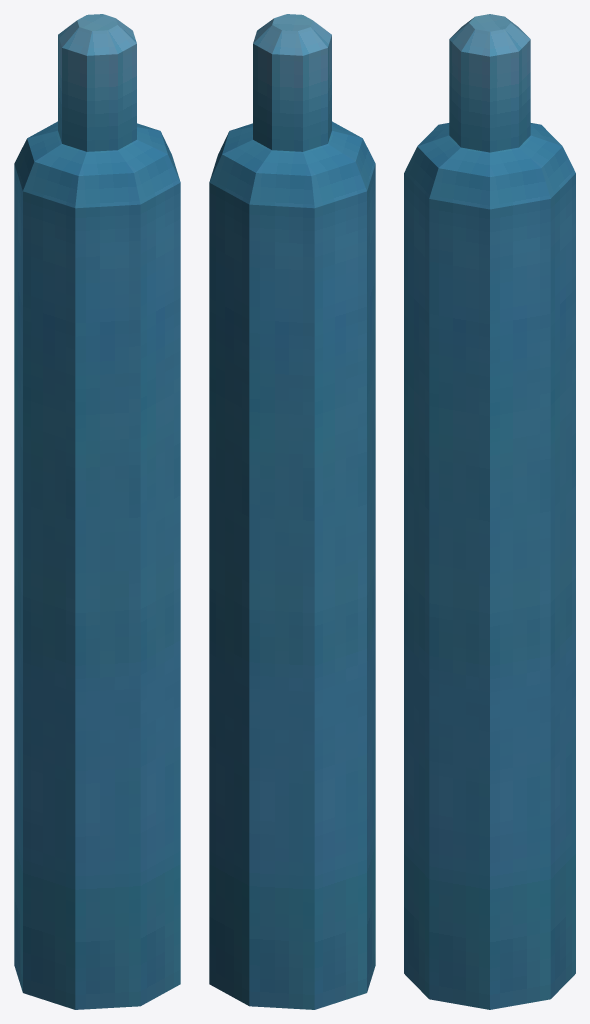
Rendered from gas_cylinder.glb.
3 renders of one model, left to right at view 1: azimuth 30°, elevation 25°; view 2: azimuth 150°, elevation 25°; view 3: azimuth 270°, elevation 25°, orthographic.
Parts seen in each view (by area): view 1: GasCylinder; view 2: GasCylinder; view 3: GasCylinder.
Boxes of the visible parts, <box> form: GasCylinder: <box>14,14,180,1009</box>; GasCylinder: <box>209,14,375,1009</box>; GasCylinder: <box>404,14,575,1009</box>.
Size of the model in its own units: 0.1778 by 1.08 by 0.1778.
Materials: 1 (1 with a texture image).
